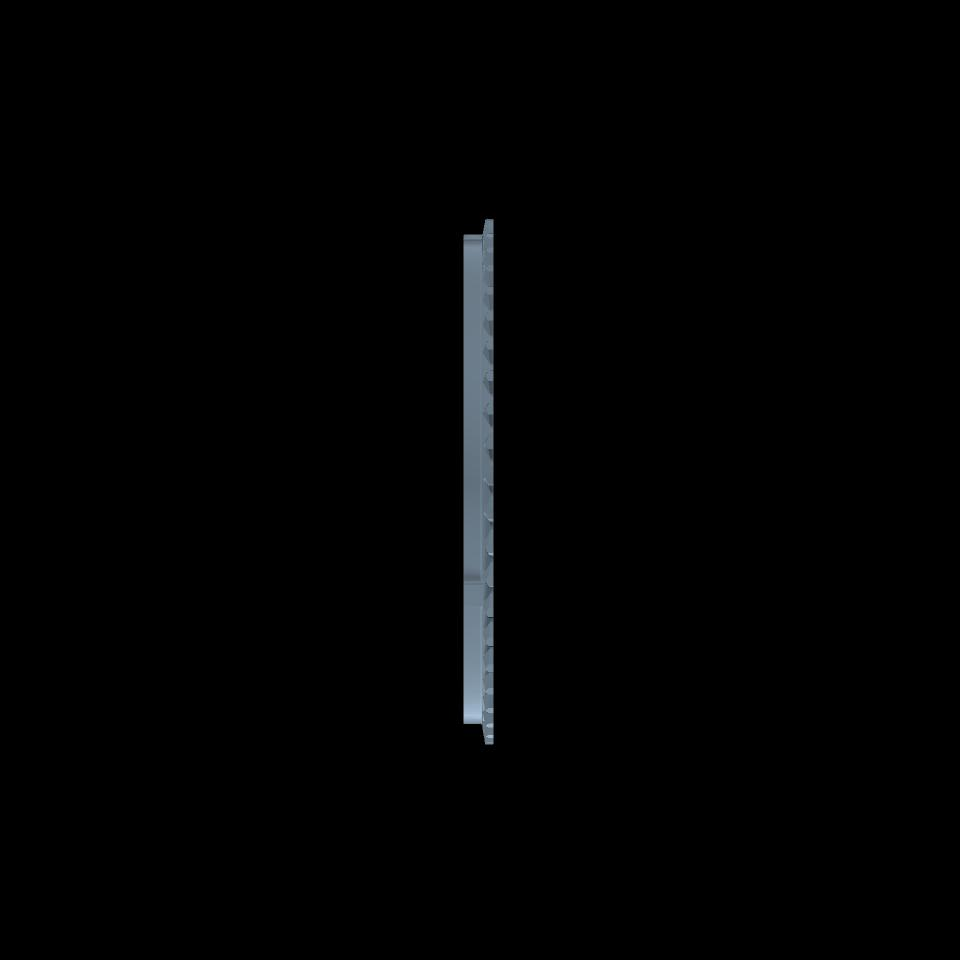Straight: (487, 220, 492, 743)
